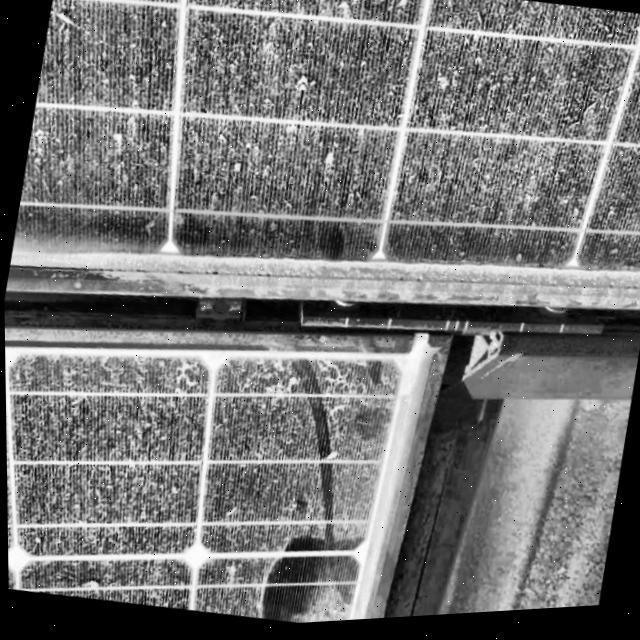Anomaly Solar Panel: (3, 0, 640, 376), (3, 298, 439, 626)
Surface Contaminant: (10, 0, 640, 332), (4, 314, 400, 626)
